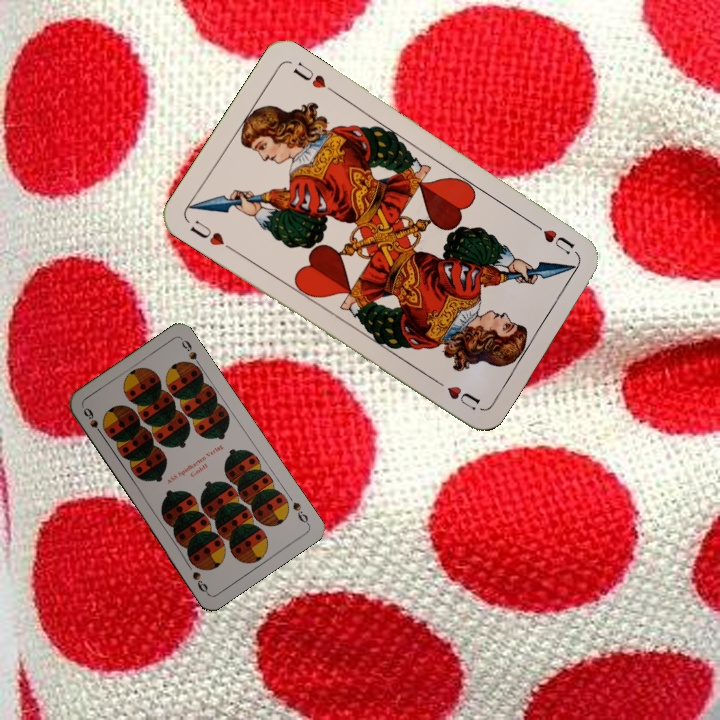HU: (186, 216, 237, 254), (538, 225, 577, 257)
S9: (79, 403, 107, 440), (288, 498, 312, 527)
